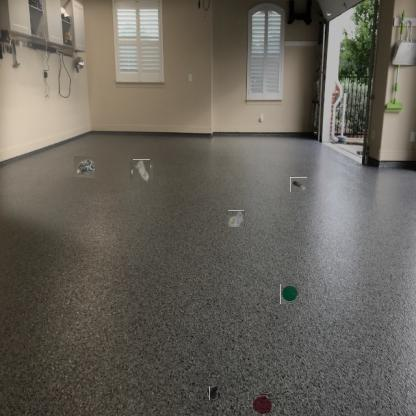dirty: (74, 157, 94, 178), (131, 161, 152, 181), (280, 285, 300, 304), (290, 176, 306, 193), (228, 211, 245, 227)
liquid: (254, 394, 274, 415), (208, 388, 220, 399)
